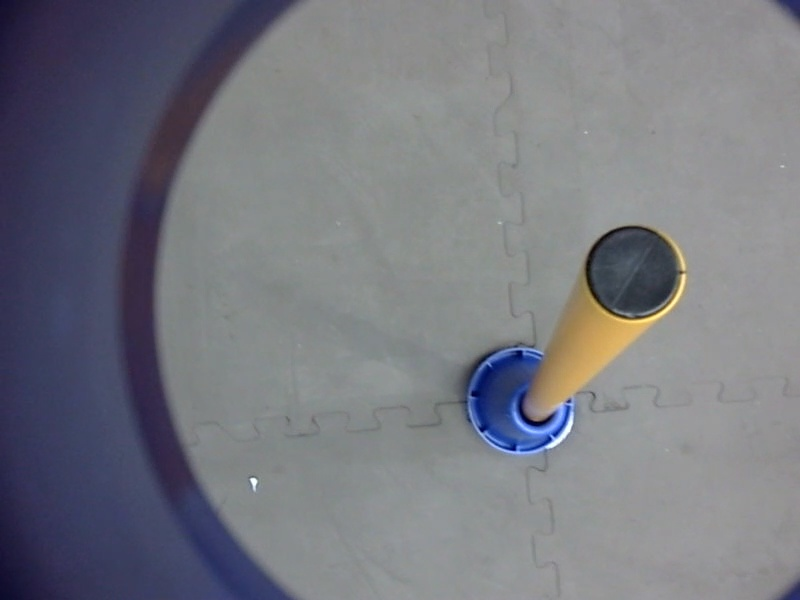tip: (579, 219, 692, 328)
